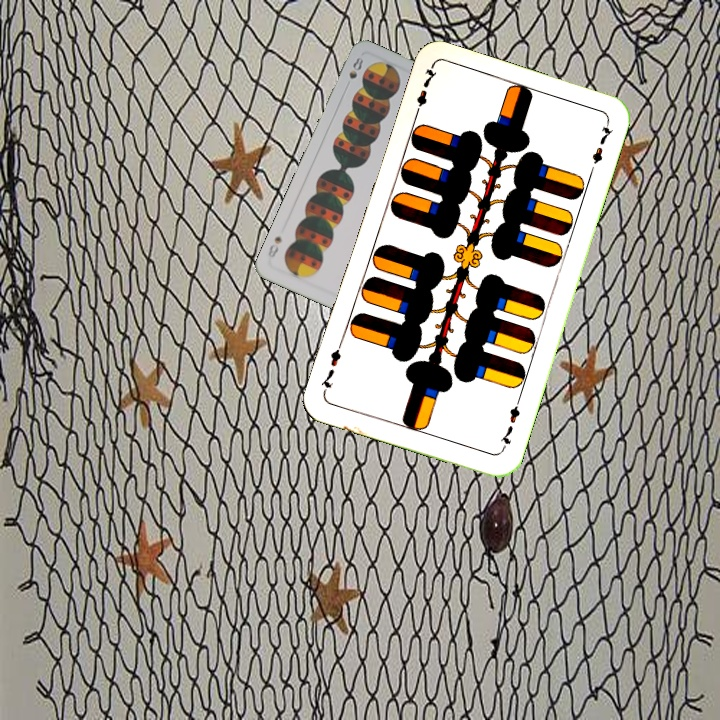E7: (410, 63, 440, 121), (495, 395, 523, 453)
S8: (345, 53, 366, 81)
